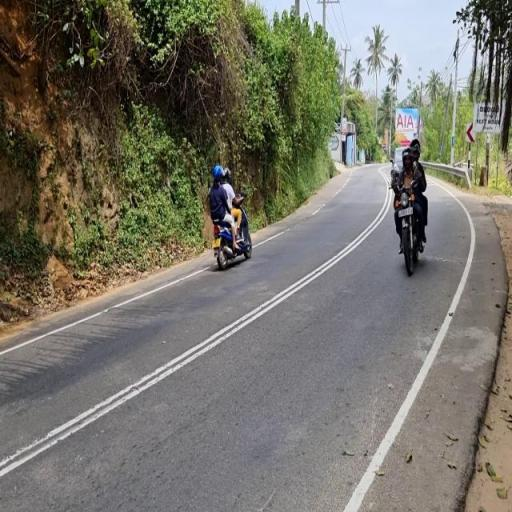double_white_line: (0, 186, 386, 486)
